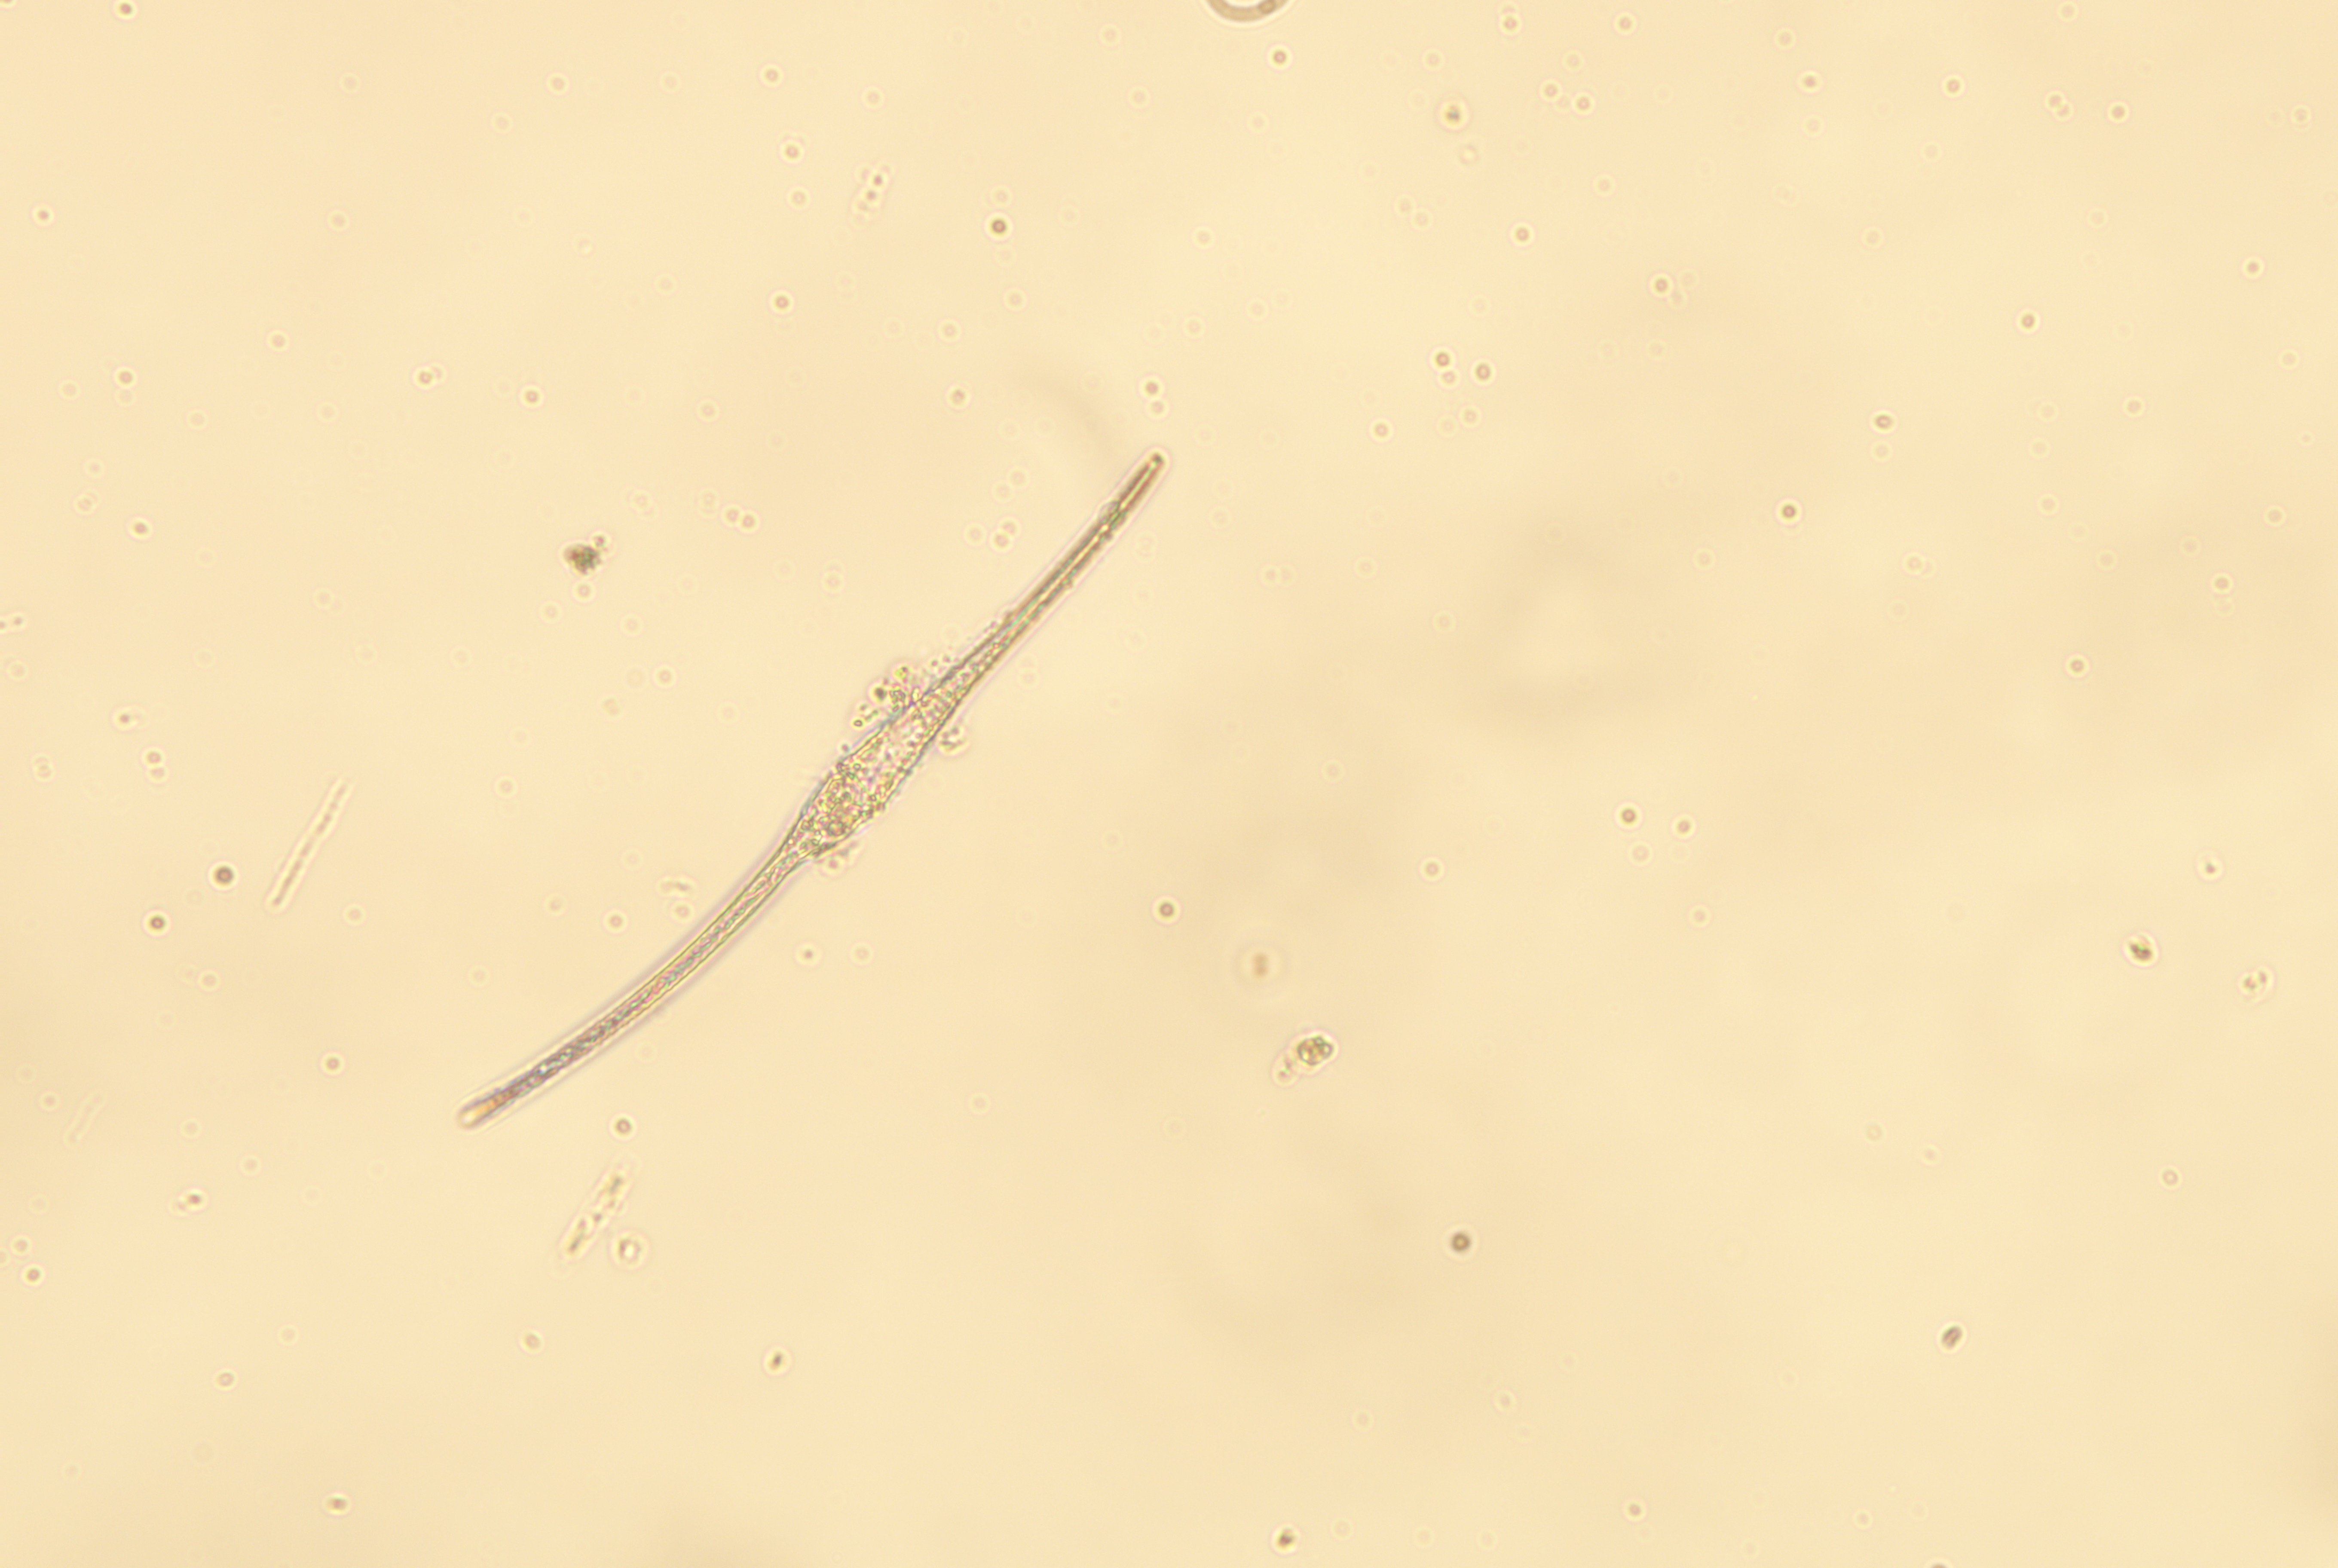ceratium fusus: (438, 436, 1176, 1136)
